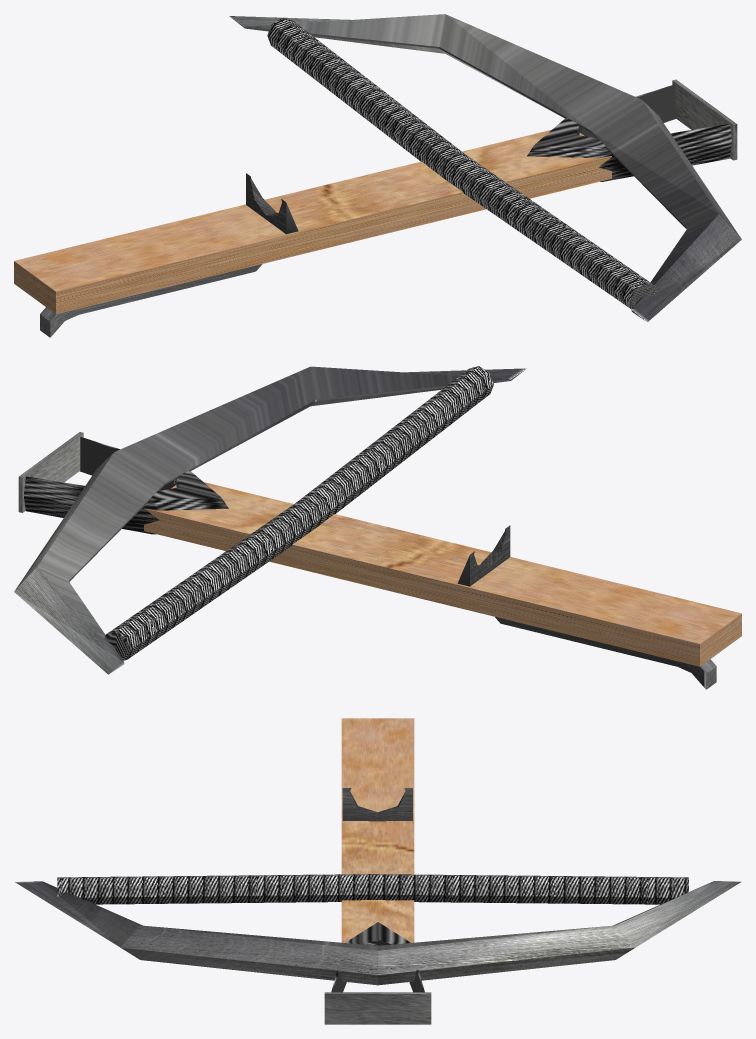
The model's file is Crossbow3.obj.
The picture shows the model from 3 angles, top to bottom: view 1: azimuth 30°, elevation 25°; view 2: azimuth 150°, elevation 25°; view 3: azimuth 270°, elevation 25°; orthographic projection. The views are drawn at different scales.
Visible parts, largest first — view 1: Sphere.002, Sphere.001, Sphere; view 2: Sphere.002, Sphere.001, Sphere; view 3: Sphere.001, Sphere, Sphere.002.
Boxes of the visible parts, x1,y1,x2,y2 form: Sphere.002: (14, 129, 611, 314); Sphere.001: (40, 14, 741, 337); Sphere: (267, 17, 731, 309); Sphere.002: (144, 482, 741, 666); Sphere.001: (14, 366, 716, 689); Sphere: (23, 366, 493, 660); Sphere.001: (14, 788, 741, 1024); Sphere: (57, 874, 688, 992); Sphere.002: (341, 718, 414, 942).
Size of the model in its own units: 4.67 by 0.6142 by 5.04.
